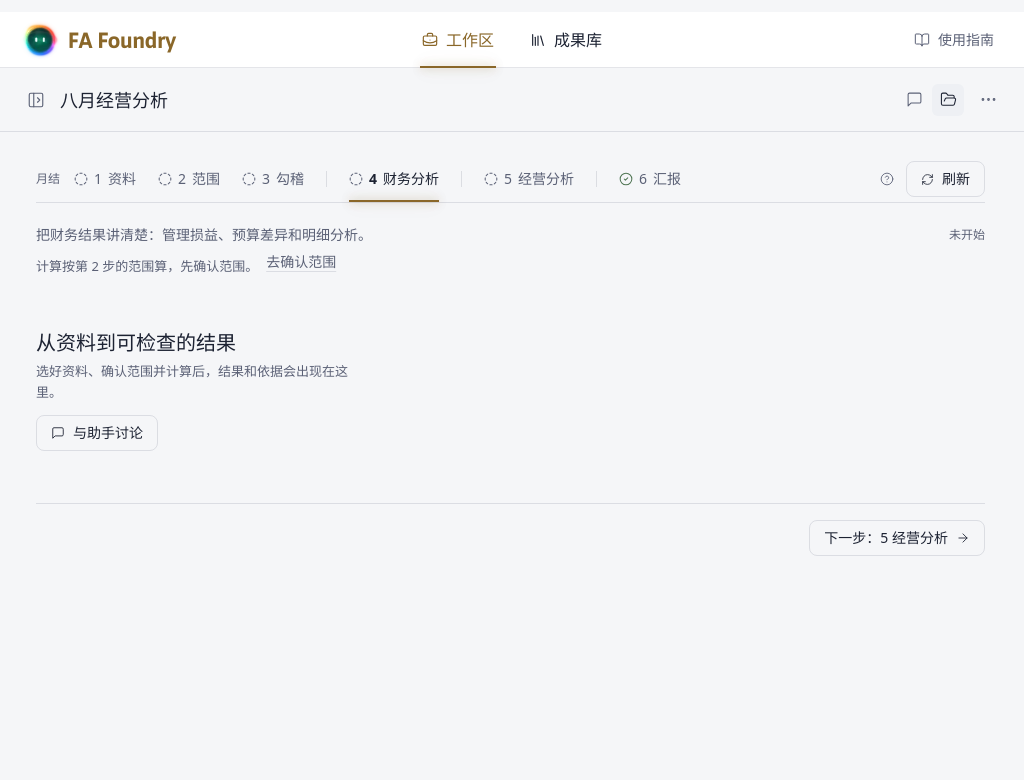
opening 成果库 rows in the app › opens a draft of another task on its 文稿 tab with that version selected
The width and height of the screenshot is (1024, 780).
Expected: the heading "八月经营分析" is shown, [60,86,168,114]
Click the button "成果库" at (566, 40), box [514,12,618,67]
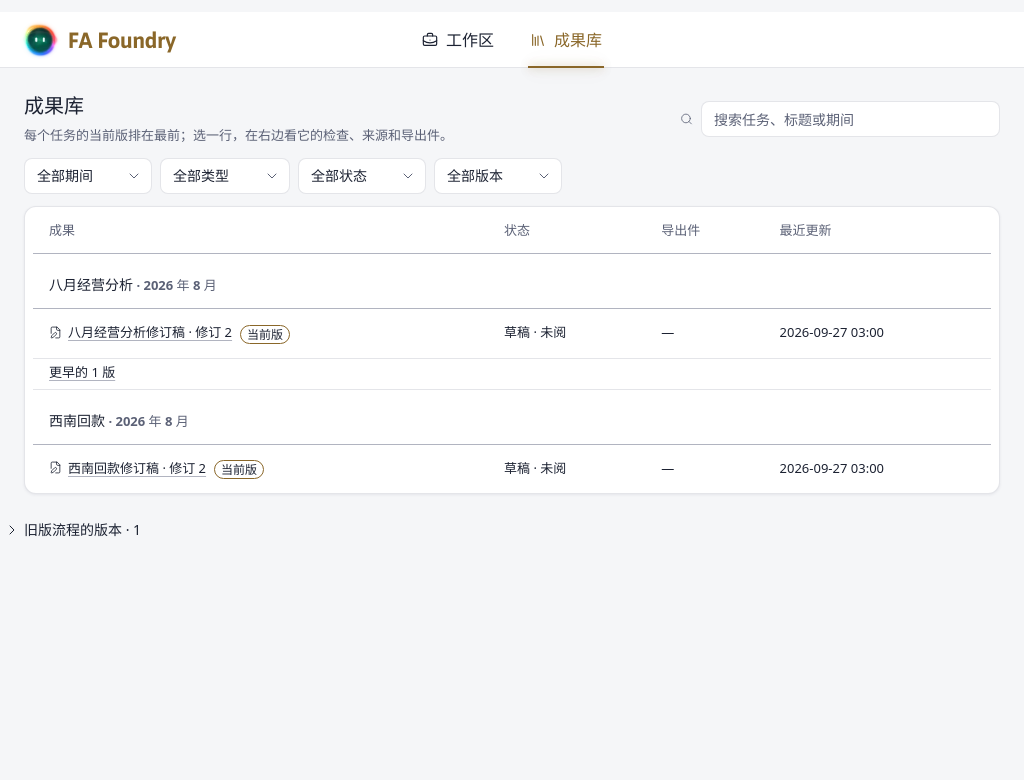
Click the 5th button at (128, 468), box [49,456,206,478]
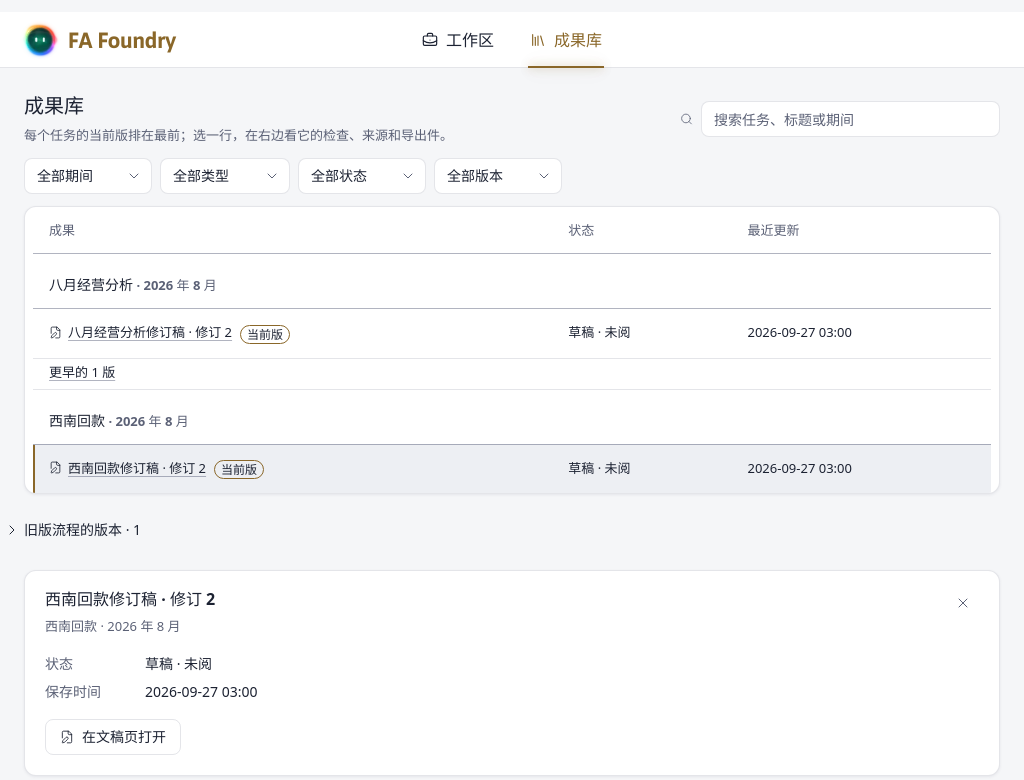
Click the button "在文稿页打开" at (113, 737), box [45,719,181,755]
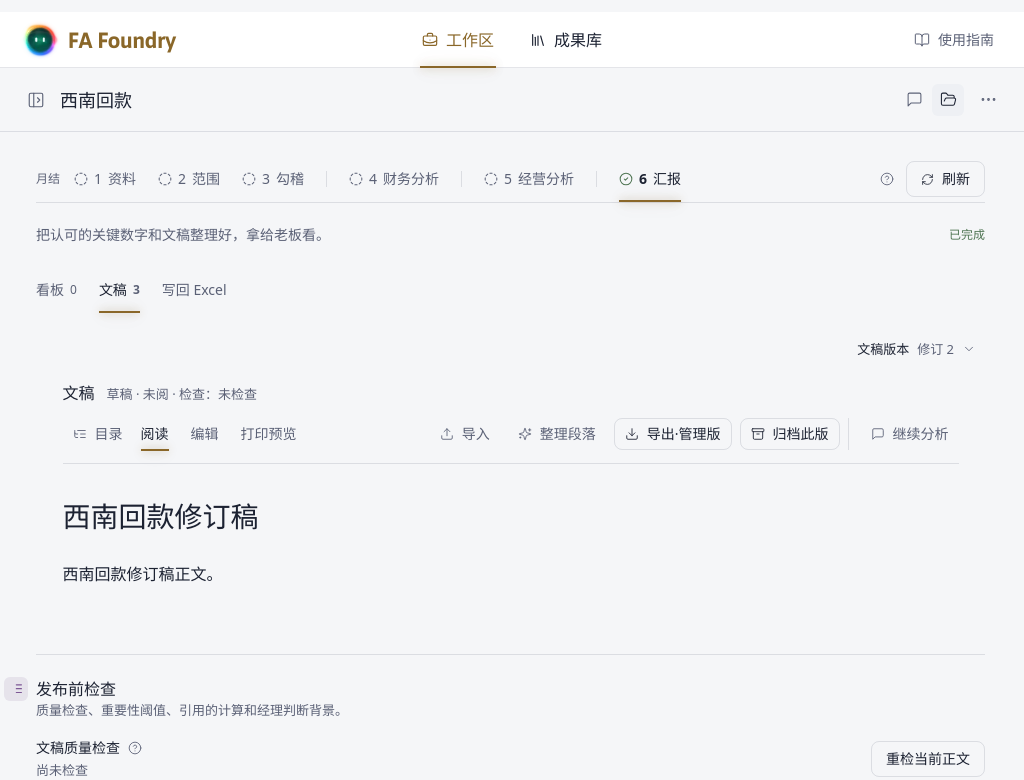
Expected: the heading "西南回款" is shown, [60,86,132,114]
Expected: the button "文稿版本 修订 2" is shown, [848,333,985,365]
